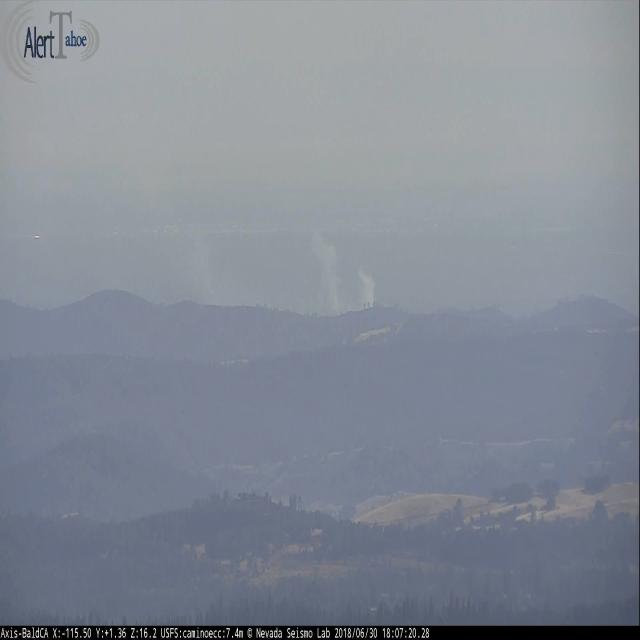smoke: (312, 229, 372, 313)
